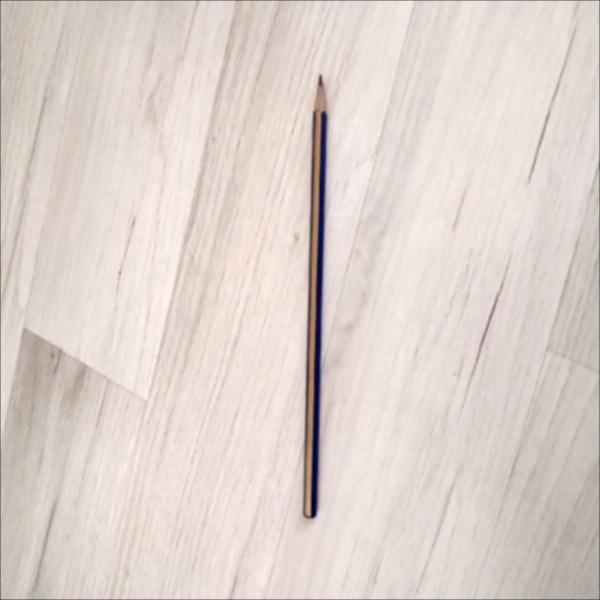pencil: (300, 74, 330, 524)
